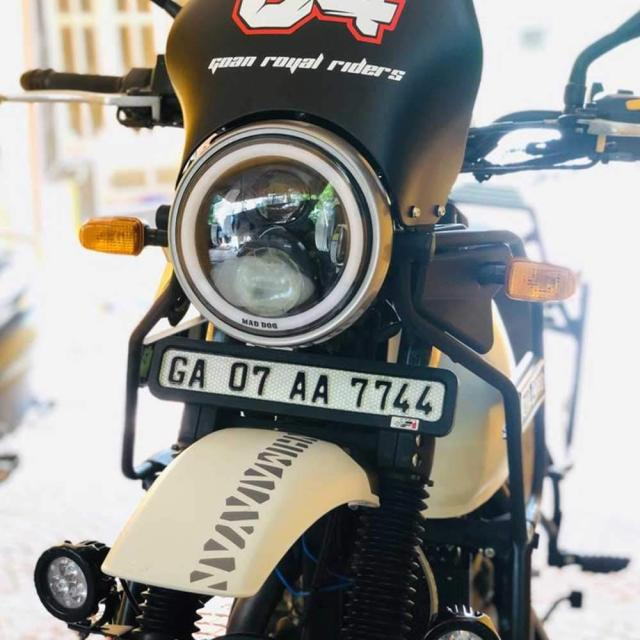number plate: (148, 339, 458, 435)
